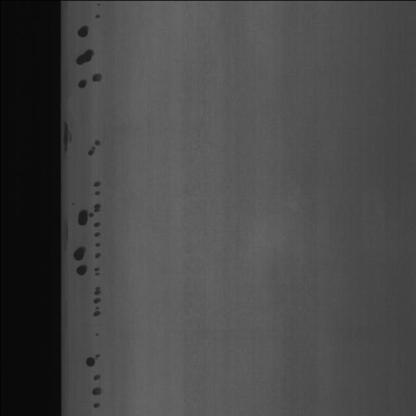oil_spot: (72, 172, 105, 316), (72, 16, 106, 94), (82, 335, 104, 410), (87, 131, 102, 158)
